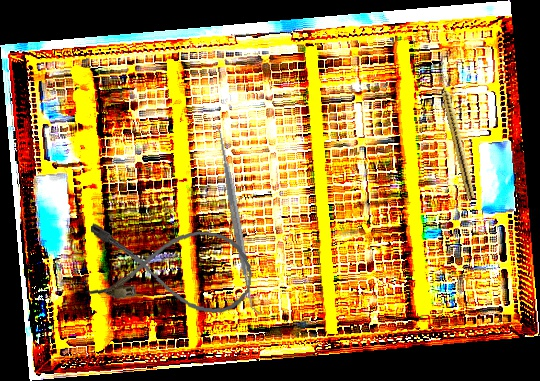Cannula: (82, 218, 257, 317)
Handpiece: (437, 75, 478, 200)
Spatula Surgical: (209, 121, 264, 320)
